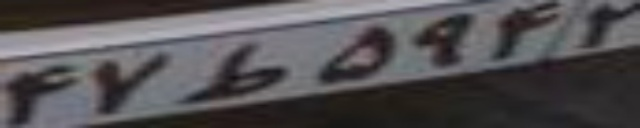2: (584, 3, 637, 46)
4: (3, 67, 70, 124), (495, 2, 558, 58)
5: (314, 24, 398, 79)
7: (92, 53, 162, 114)
9: (415, 11, 467, 66)
taa: (183, 41, 282, 100)
